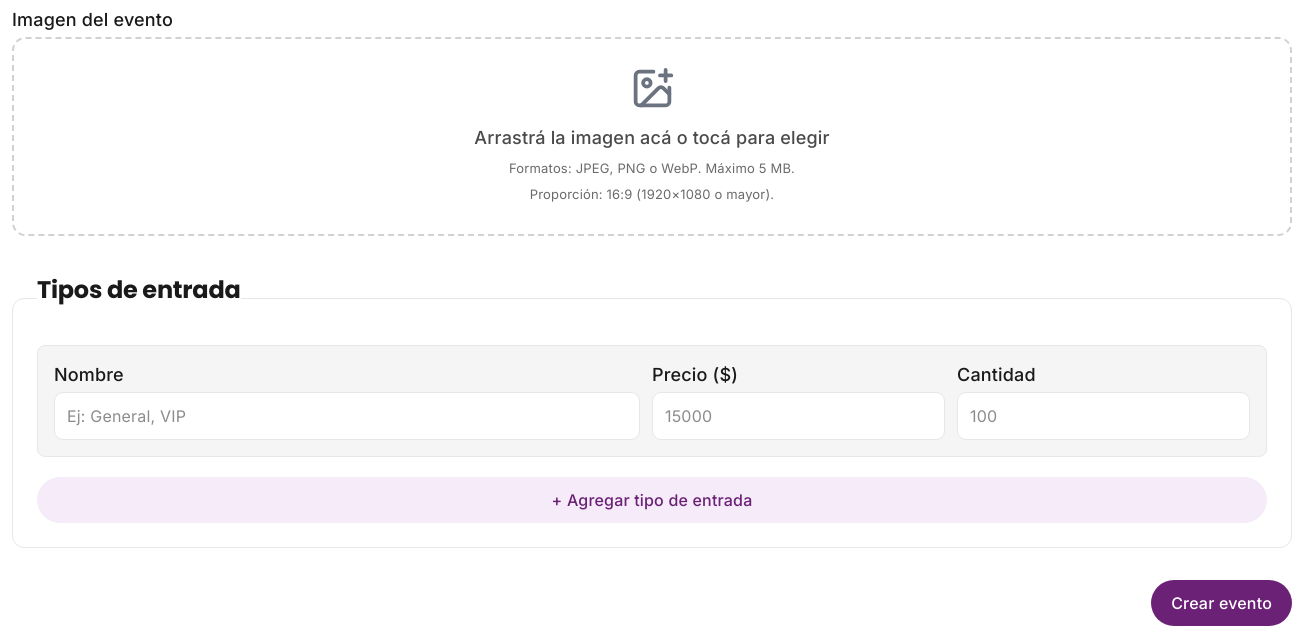
Scenario: EventForm — create mode › validates required fields on submit
This screenshot has width=1304, height=626.
(page scrolled)
Click the button "Crear evento".
click(1222, 603)  # box left=1151, top=580, right=1292, bottom=625
(page scrolled)
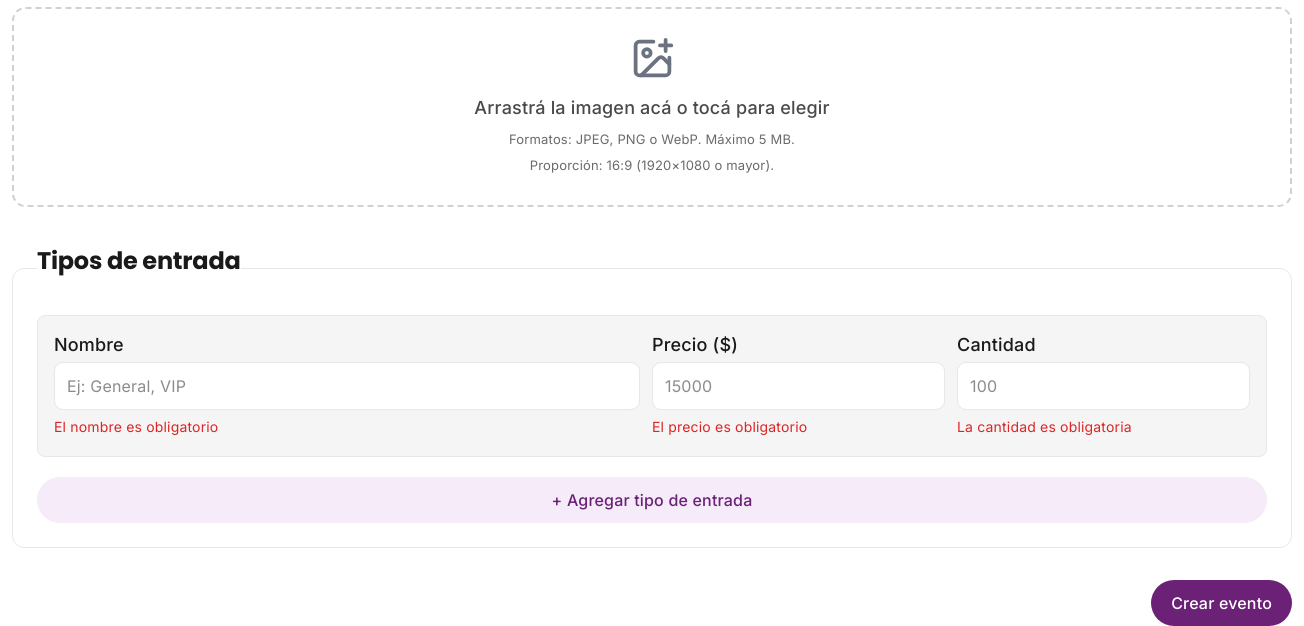
Expected: the text "El nombre es obligatorio" is shown, left=54, top=418, right=218, bottom=435
Expected: the text "El precio es obligatorio" is shown, left=652, top=418, right=807, bottom=435
Expected: the text "La cantidad es obligatoria" is shown, left=957, top=418, right=1132, bottom=435
